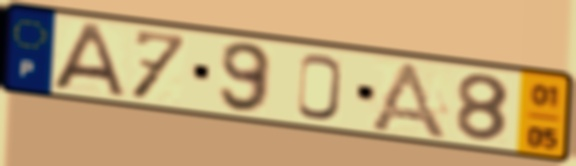0: (296, 53, 346, 122)
7: (129, 27, 189, 102)
8: (452, 72, 512, 144)
9: (217, 41, 275, 116)
A: (363, 60, 452, 144), (49, 21, 127, 99)
